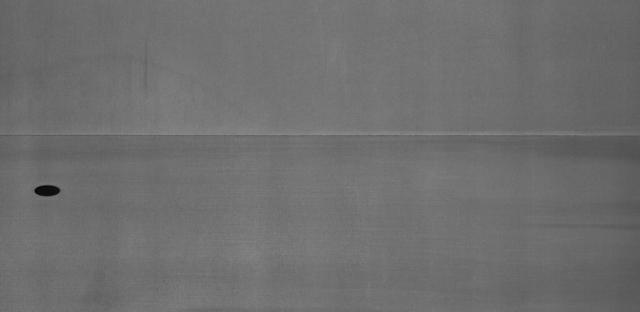punching_hole: (32, 180, 76, 201)
welding_line: (2, 126, 640, 146)
